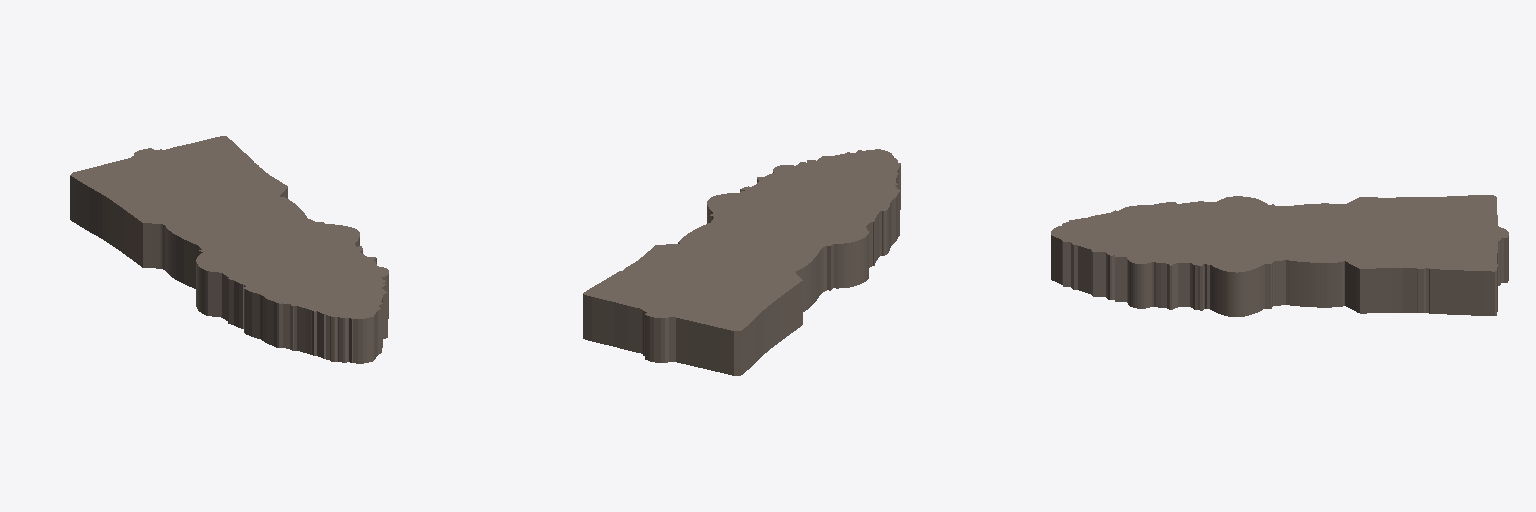
Rendered from EN_Frigate.obj.
3 renders of one model, left to right at view 1: azimuth 30°, elevation 25°; view 2: azimuth 150°, elevation 25°; view 3: azimuth 270°, elevation 25°, orthographic.
Visible parts, largest first — view 1: Germain_Zebeks; view 2: Germain_Zebeks; view 3: Germain_Zebeks.
Boxes of the visible parts, <box> form: Germain_Zebeks: <box>70,136,388,363</box>; Germain_Zebeks: <box>583,149,900,375</box>; Germain_Zebeks: <box>1051,195,1508,316</box>.
Bounding box in the file's own units: 0.7339 × 0.1969 × 1.83.